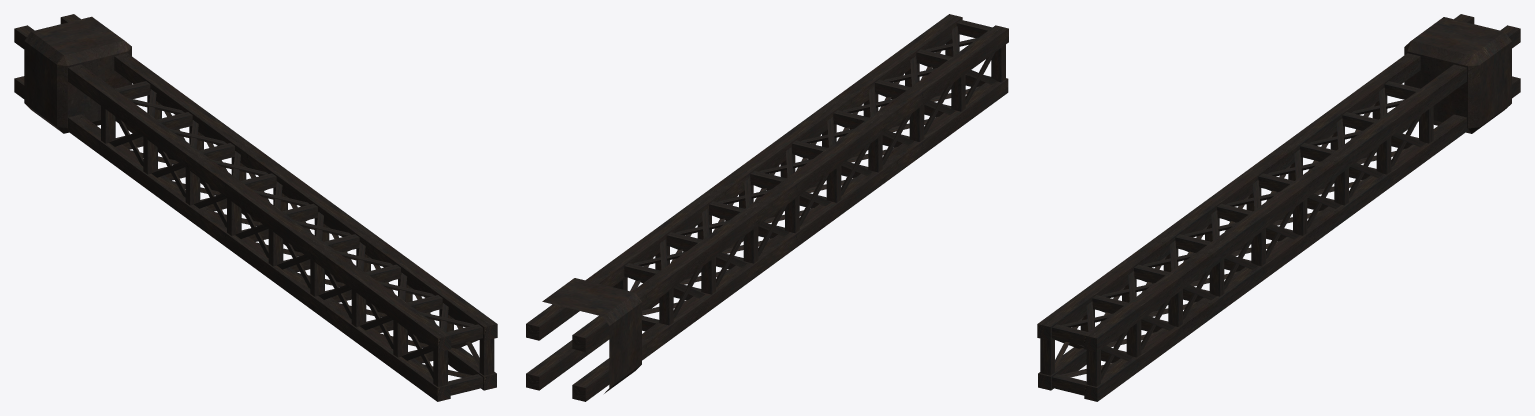
Rendered from bunker04.glb.
The picture shows the model from 3 angles, left to right: view 1: azimuth 30°, elevation 25°; view 2: azimuth 150°, elevation 25°; view 3: azimuth 330°, elevation 25°; orthographic projection.
Bounding box in the file's own units: 46.46 × 46.46 × 454.
Materials: 1 (1 with a texture image).
